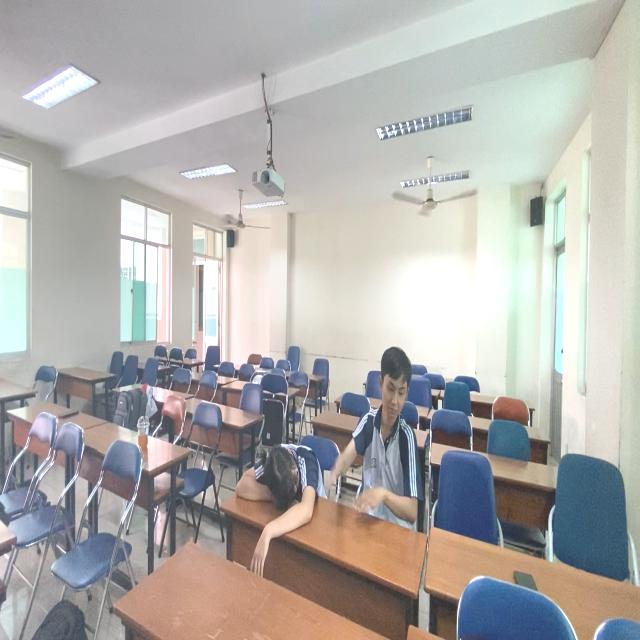sleep: (239, 436, 329, 582)
